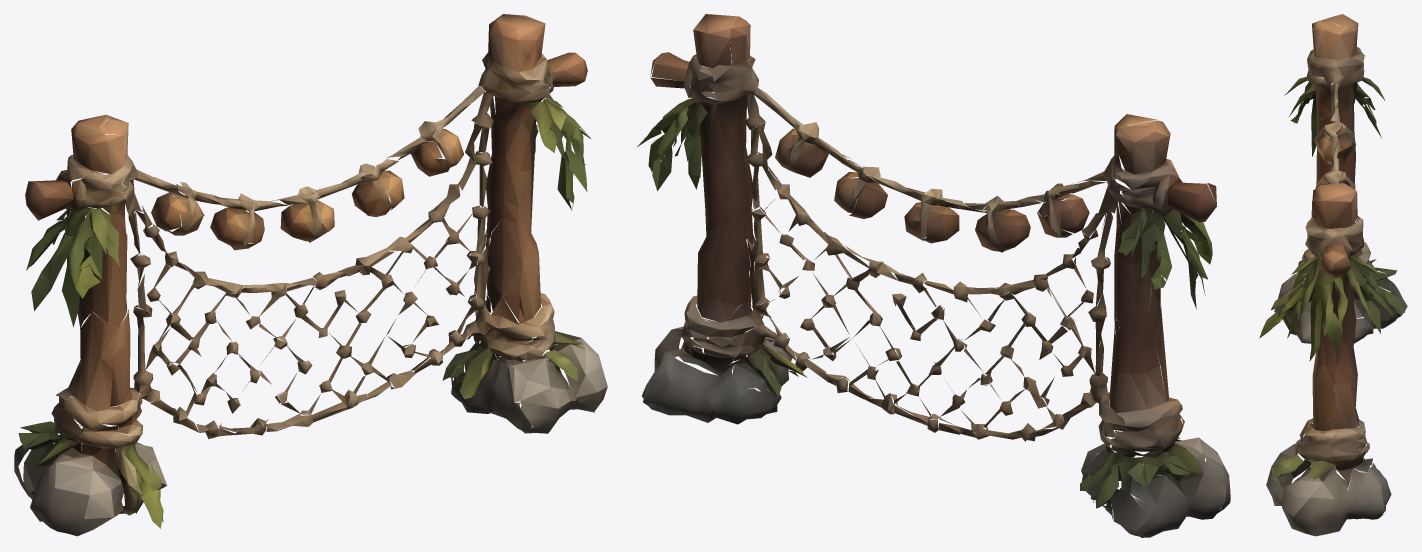
The model's file is building-fishNet.glb.
3 renders of one model, left to right at view 1: azimuth 30°, elevation 25°; view 2: azimuth 150°, elevation 25°; view 3: azimuth 270°, elevation 25°, orthographic. The views are drawn at different scales.
Visible parts, largest first — view 1: 0_fishNet; view 2: 0_fishNet; view 3: 0_fishNet.
Boxes of the visible parts, x1,y1,x2,y2 form: 0_fishNet: [14, 14, 607, 536]; 0_fishNet: [637, 14, 1230, 537]; 0_fishNet: [1259, 14, 1407, 536].
Bounding box in the file's own units: 3.89 × 2.5 × 1.05.
